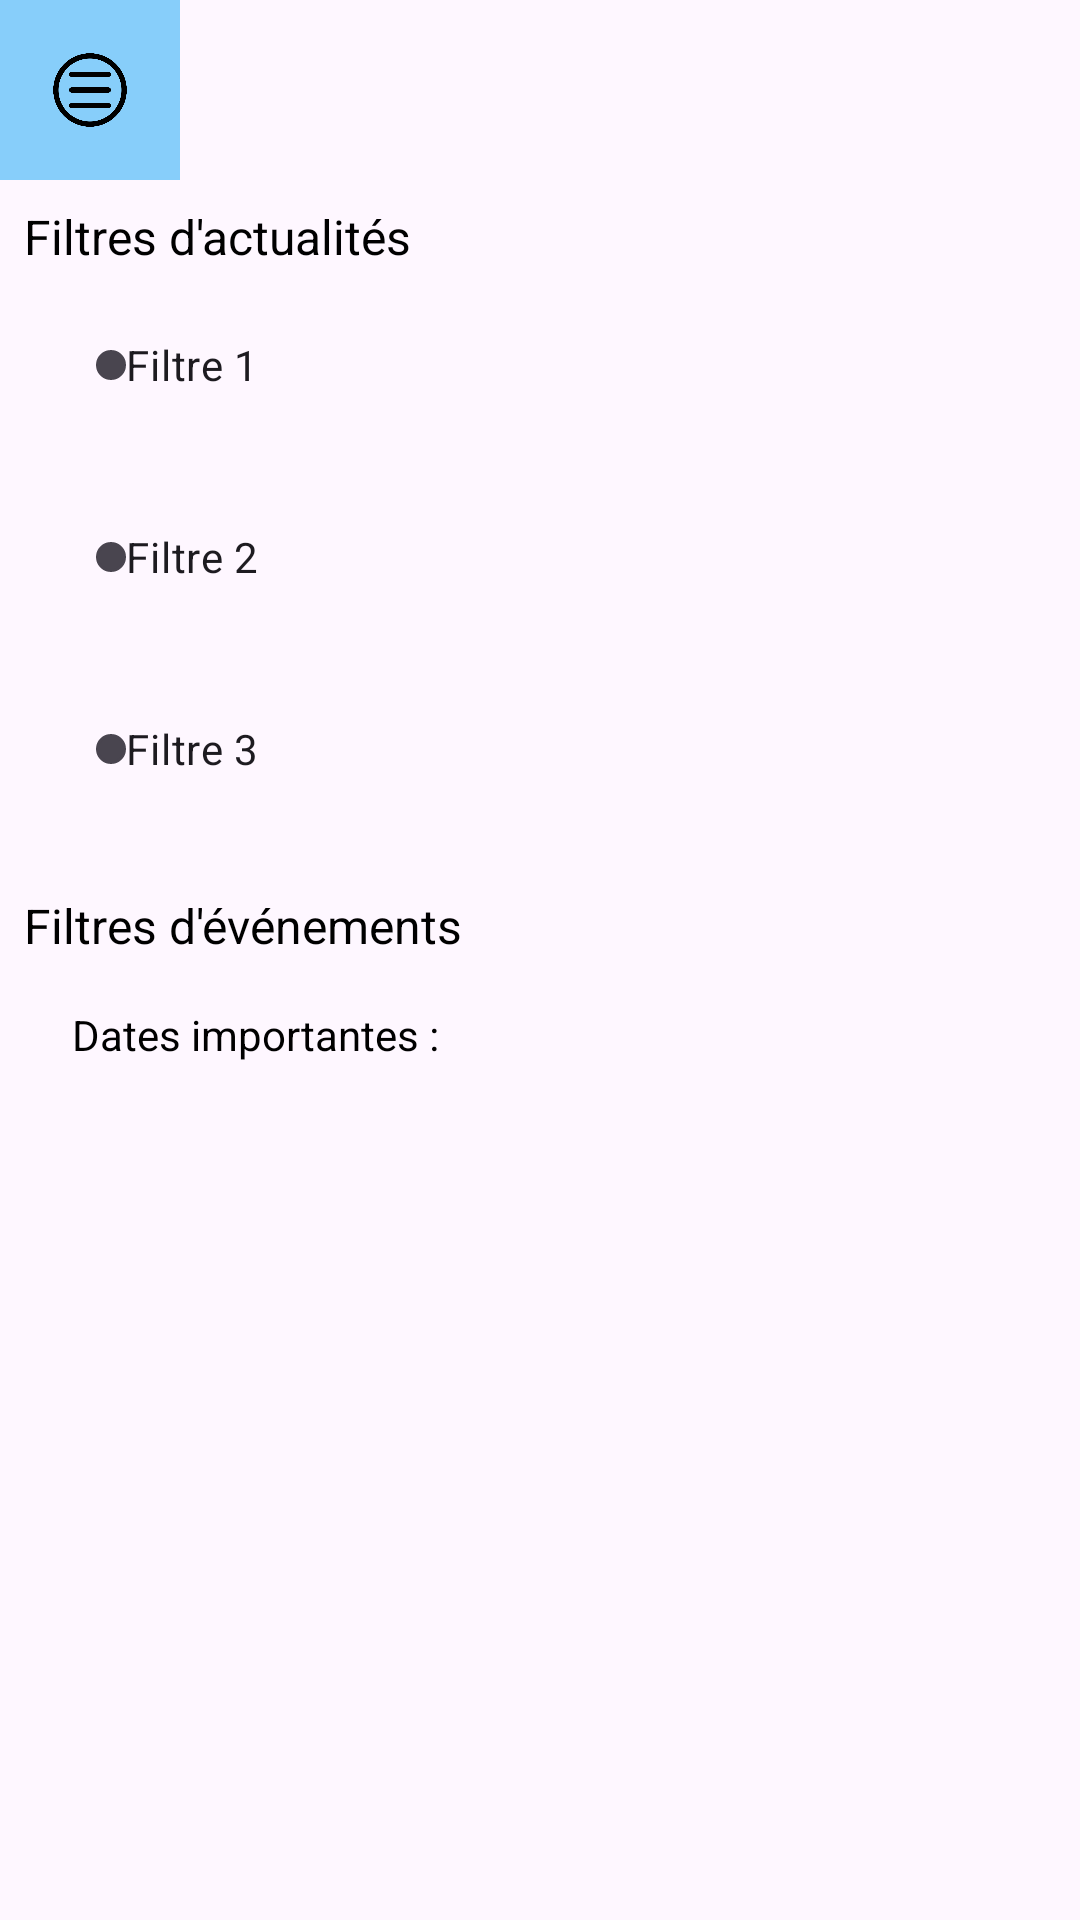

Named icons in this screenshot (1080*1920) and their bounding boxes, [left=x1, top=y1, right=x2, bottom=y2]:
Menu: [left=0, top=0, right=180, bottom=180]
